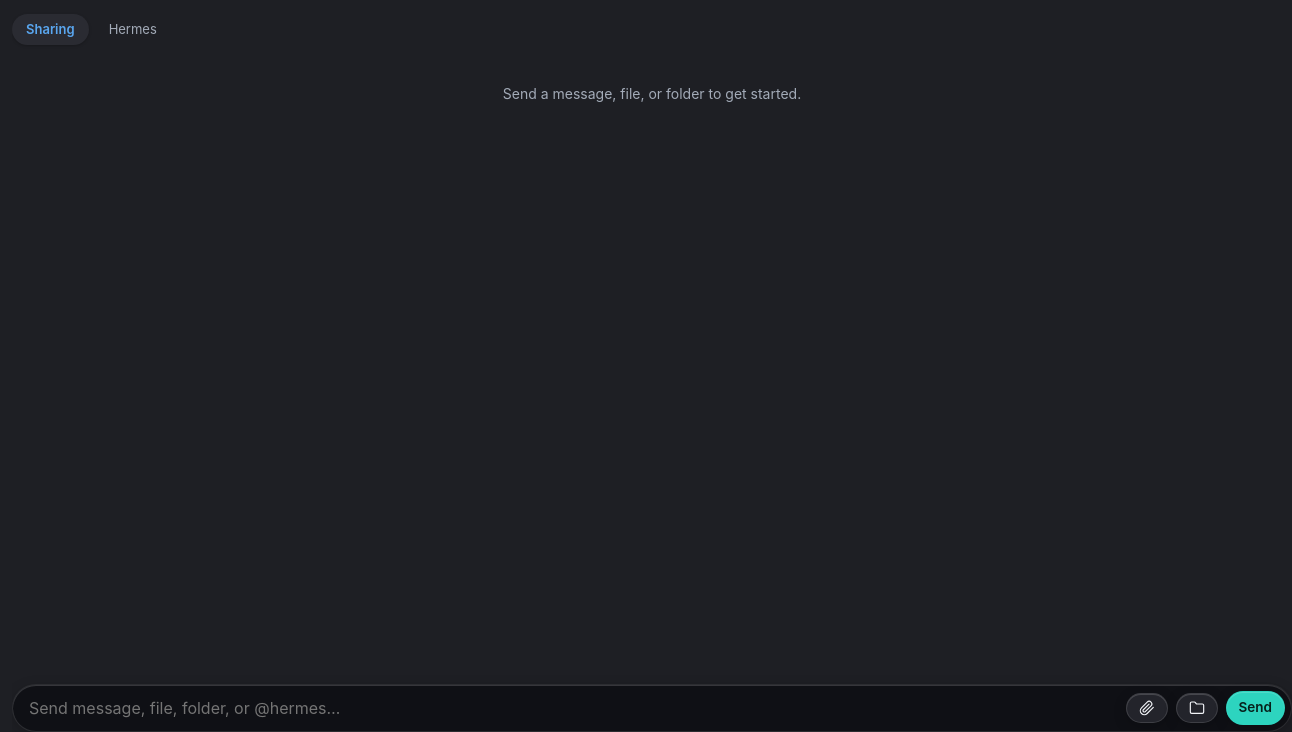
Test: ChatPanel › pressing Enter on the mention menu selects it (label case) and adds a trailing space
Type "@" into the field with placeholder "Send message, file, folder, or @hermes…" at (572, 708), box [27,696,1118,721]
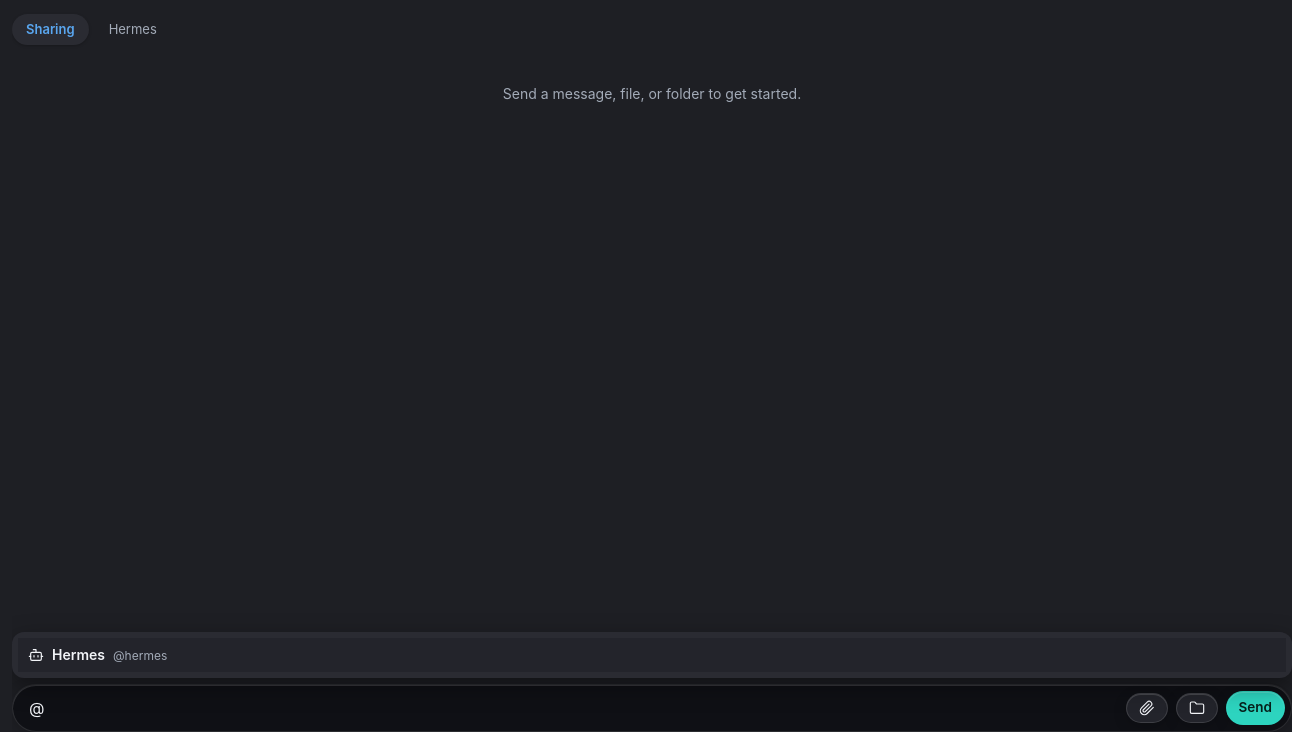
Press Enter in the field with placeholder "Send message, file, folder, or @hermes…", box [27,696,1118,721]
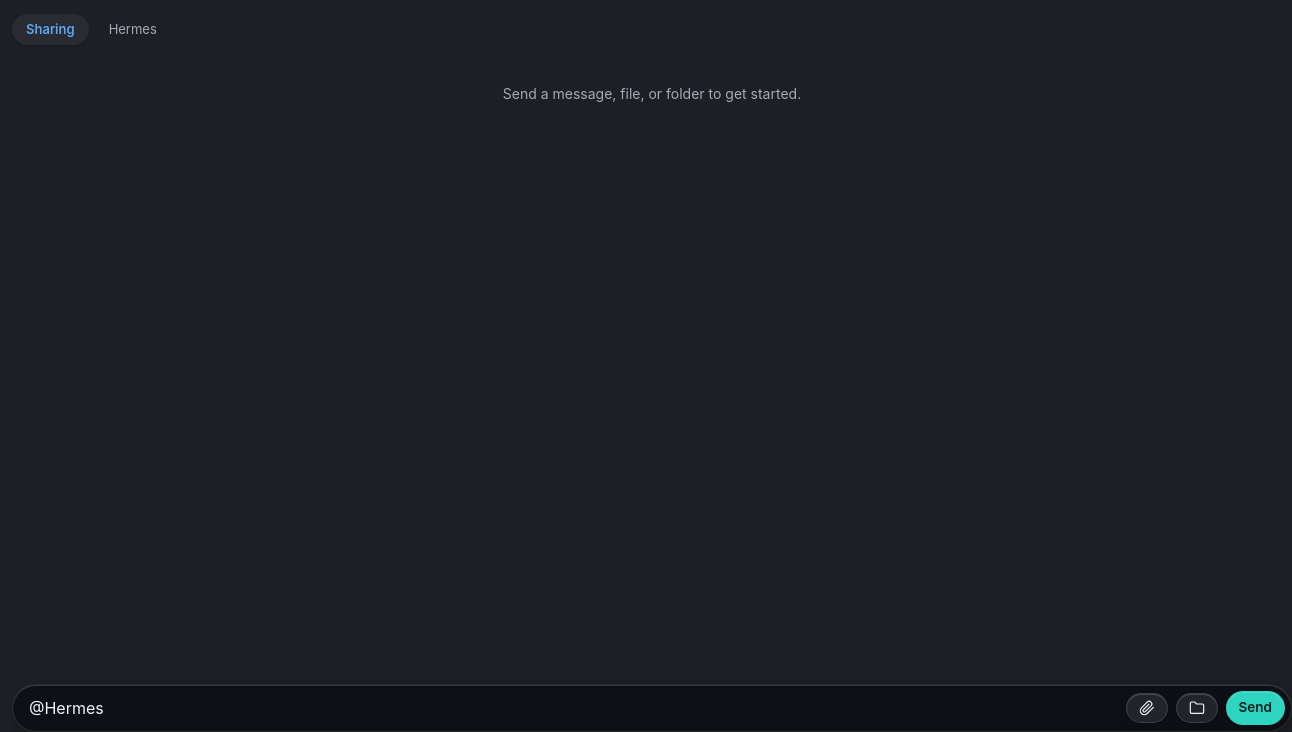
Check: the field with placeholder "Send message, file, folder, or @hermes…" holds "@Hermes ", box [27,696,1118,721]
